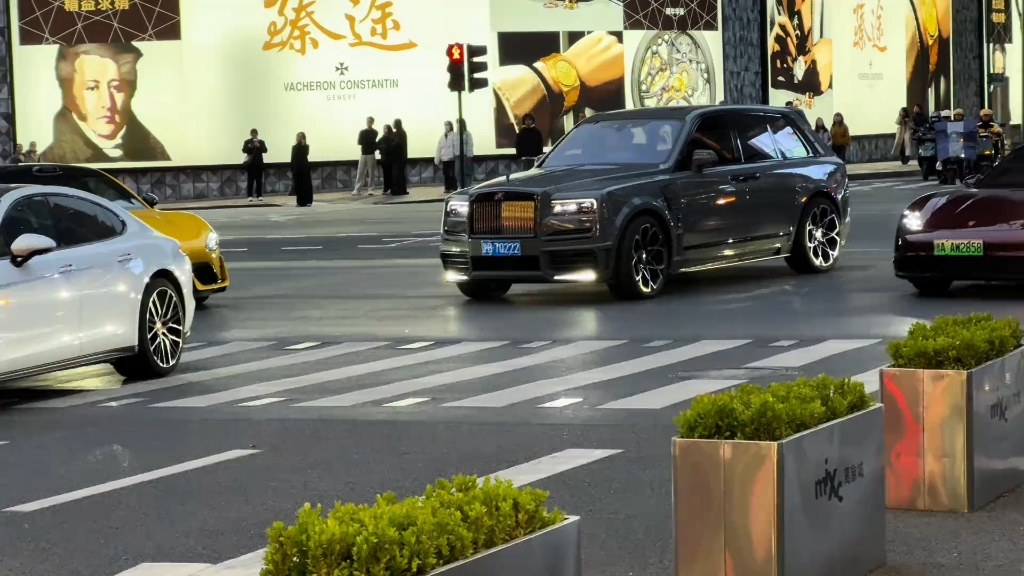other: (434, 93, 852, 295), (0, 188, 195, 378), (891, 142, 1024, 298)
